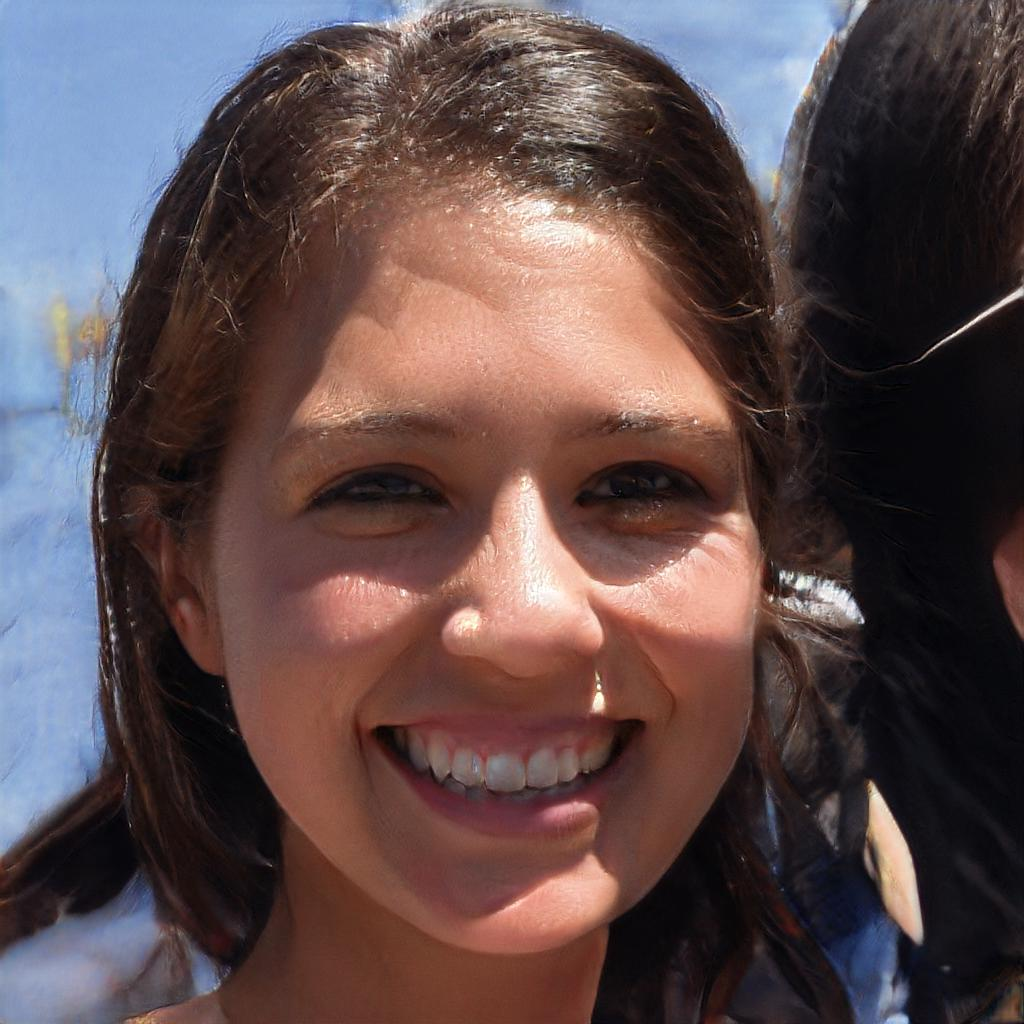face: (225, 178, 762, 953)
